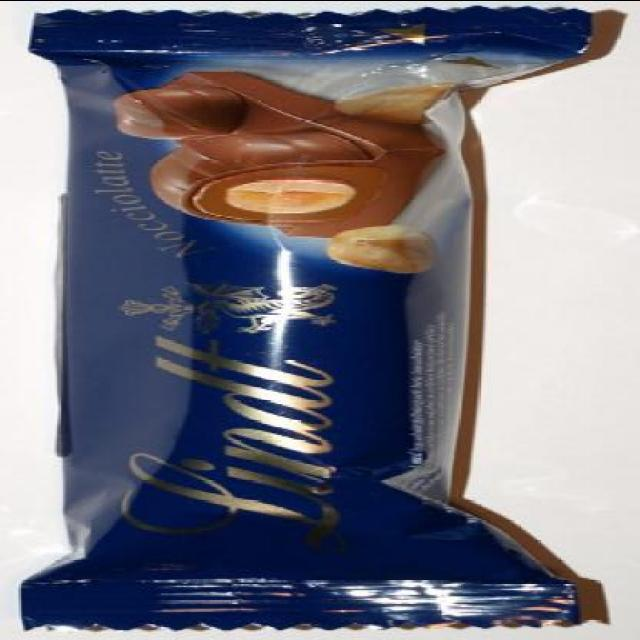Candy: (7, 6, 595, 629)
